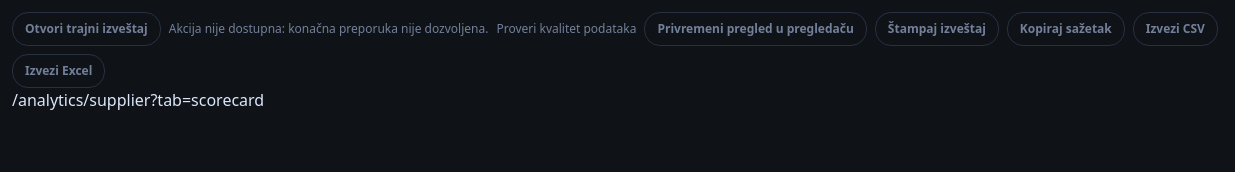
SupplierDecisionReportActions › opens the durable URL as the canonical report path
The image size is (1235, 172).
Step 1. Click the button "Otvori trajni izveštaj" → (86, 29), box [12, 12, 161, 46]
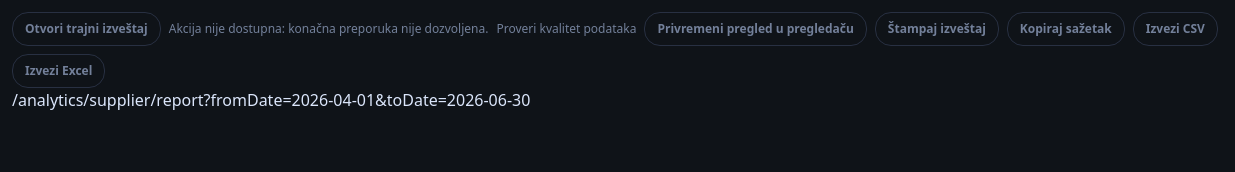
Expected: the text with test id "location" reads "/analytics/supplier/report?fromDate=2026-04-01&toDate=2026-06-30", [12, 89, 530, 111]
